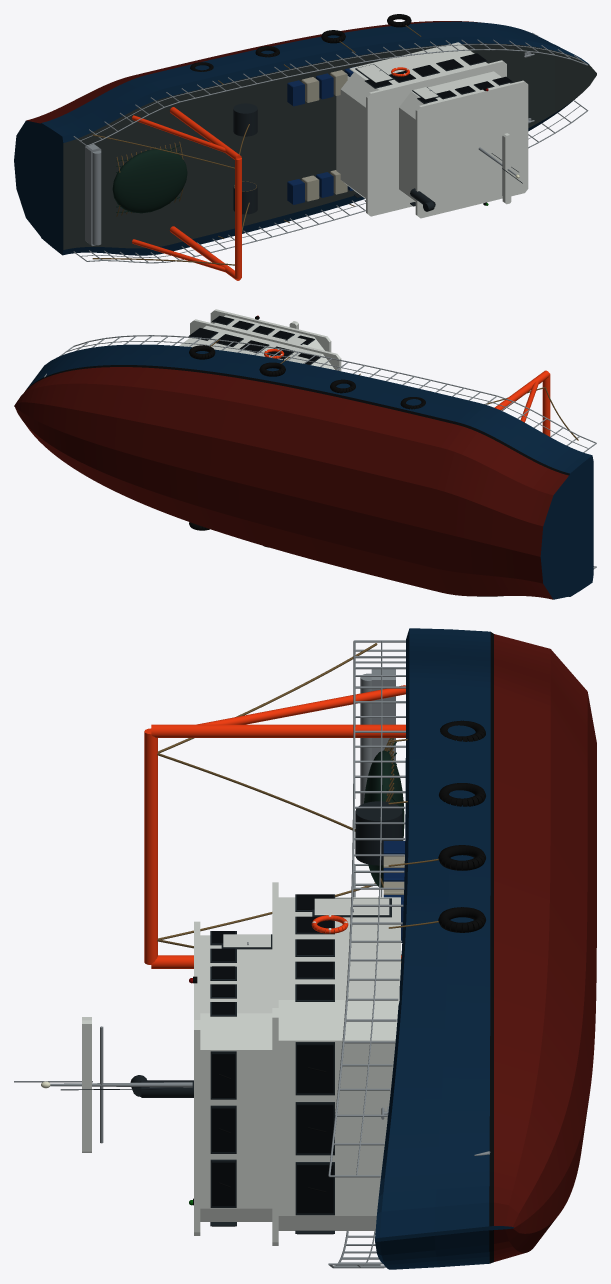
File: fishing_trawler.obj
3 renders of one model, top to bottom at view 1: azimuth 30°, elevation 25°; view 2: azimuth 150°, elevation 25°; view 3: azimuth 270°, elevation 25°, orthographic. The views are drawn at different scales.
Size of the model in its own units: 24 by 7.19 by 11.9.
